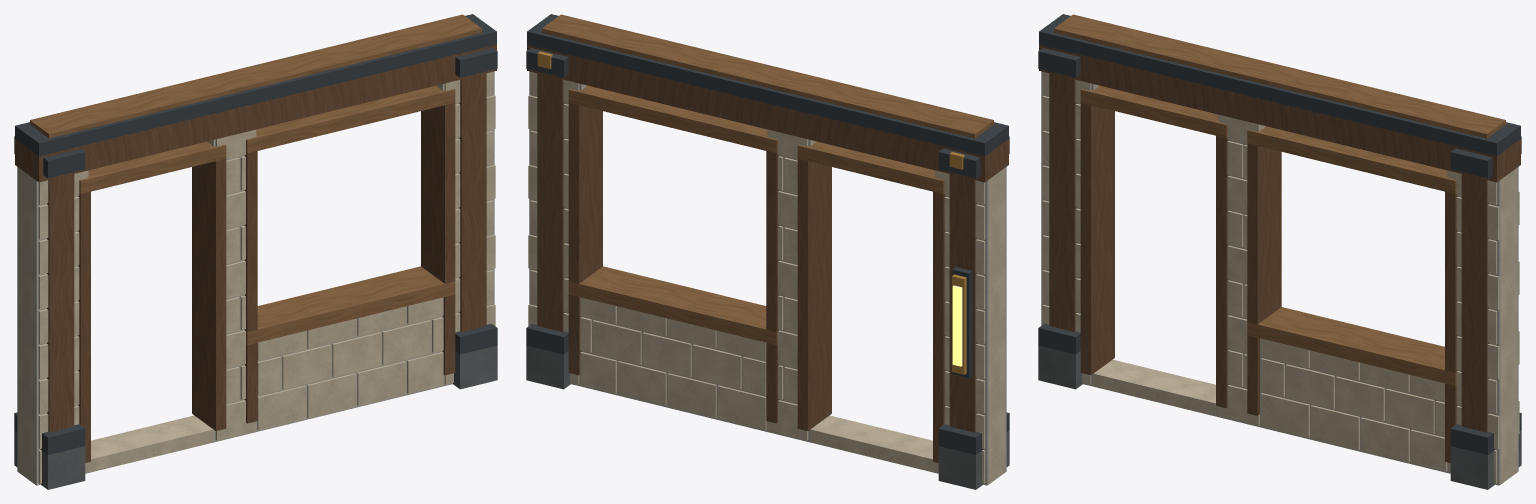
The picture shows the model from 3 angles, left to right: view 1: azimuth 30°, elevation 25°; view 2: azimuth 150°, elevation 25°; view 3: azimuth 330°, elevation 25°; orthographic projection.
Parts seen in each view (by area): view 1: 旧楼分段入口及窗洞墙; view 2: 旧楼分段入口及窗洞墙; view 3: 旧楼分段入口及窗洞墙.
Boxes of the visible parts, box(x1,y1,x2,y2) form: 旧楼分段入口及窗洞墙: box(14, 14, 497, 489); 旧楼分段入口及窗洞墙: box(526, 14, 1009, 489); 旧楼分段入口及窗洞墙: box(1038, 14, 1521, 489).
Bounding box in the file's own units: 4.4 × 3.2 × 0.6.
Materials: 8 (8 with a texture image).
